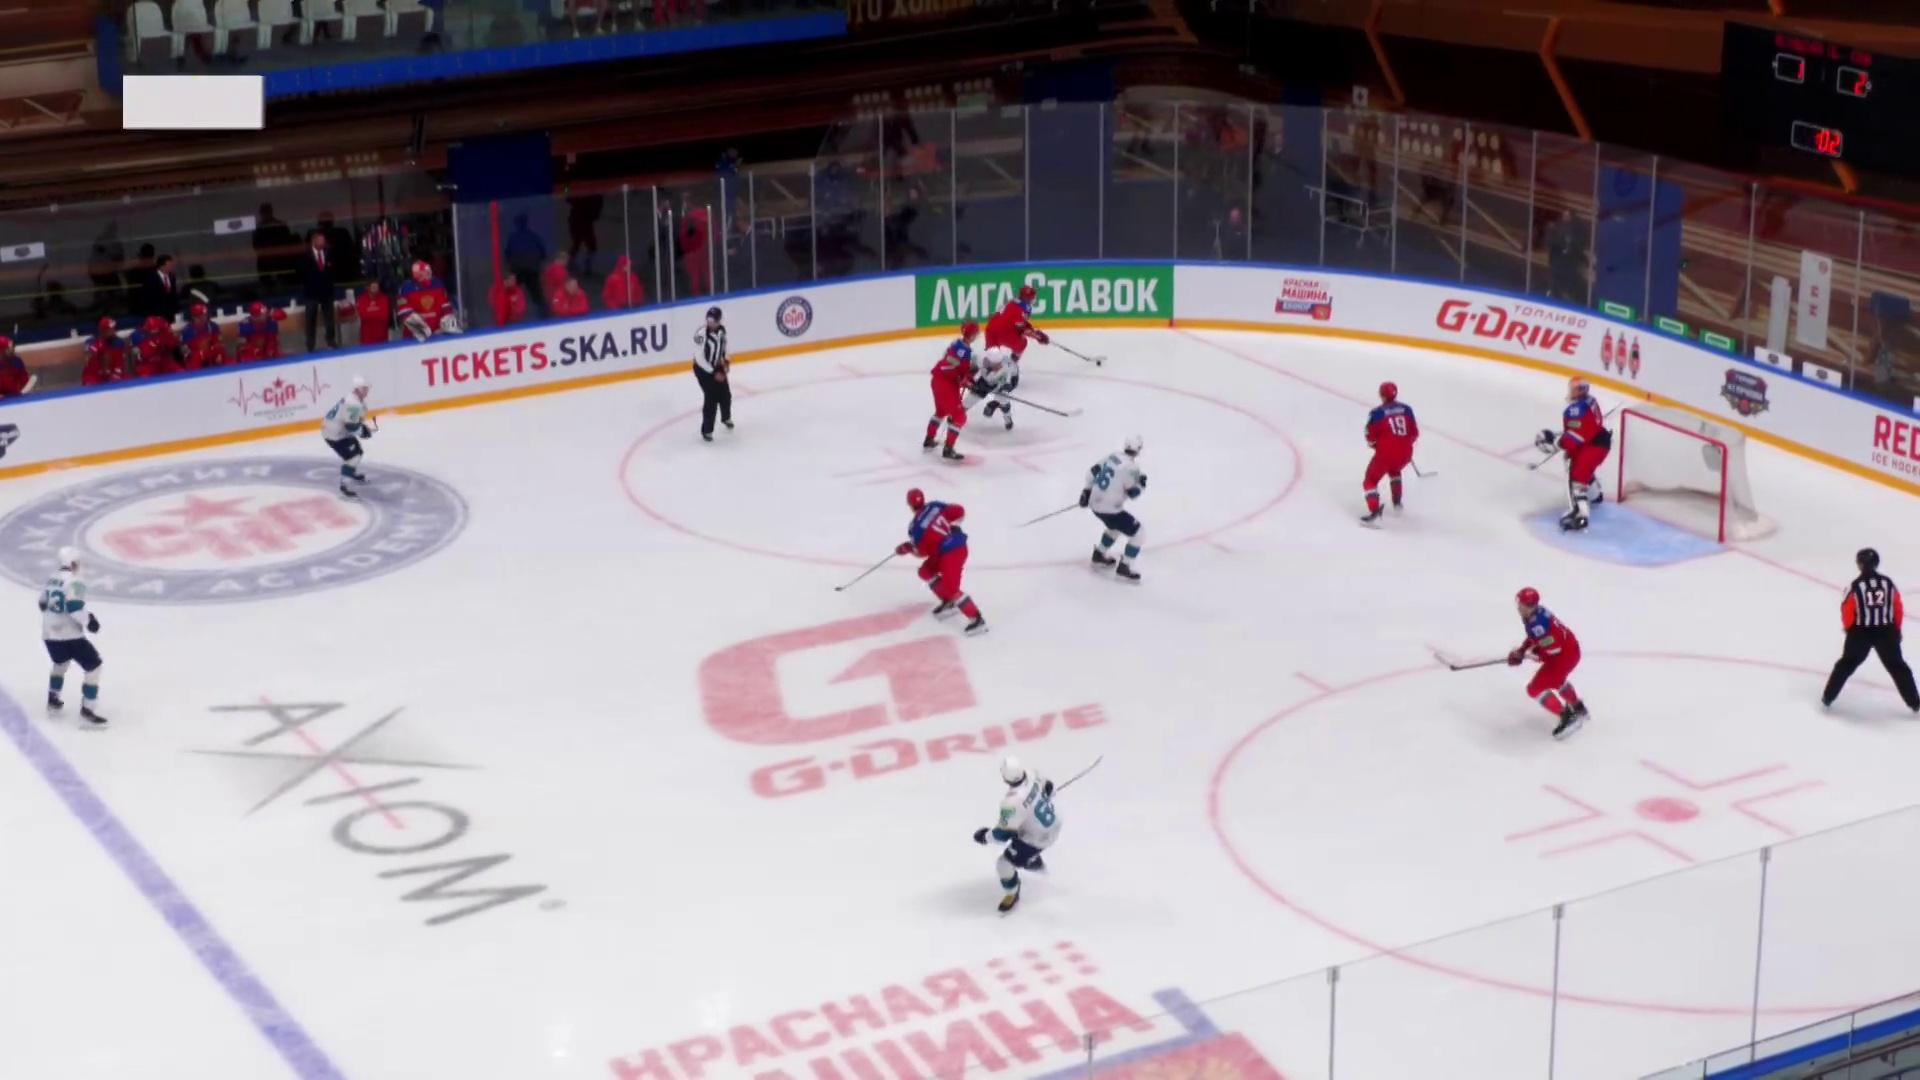ball: (1096, 360, 1102, 367)
